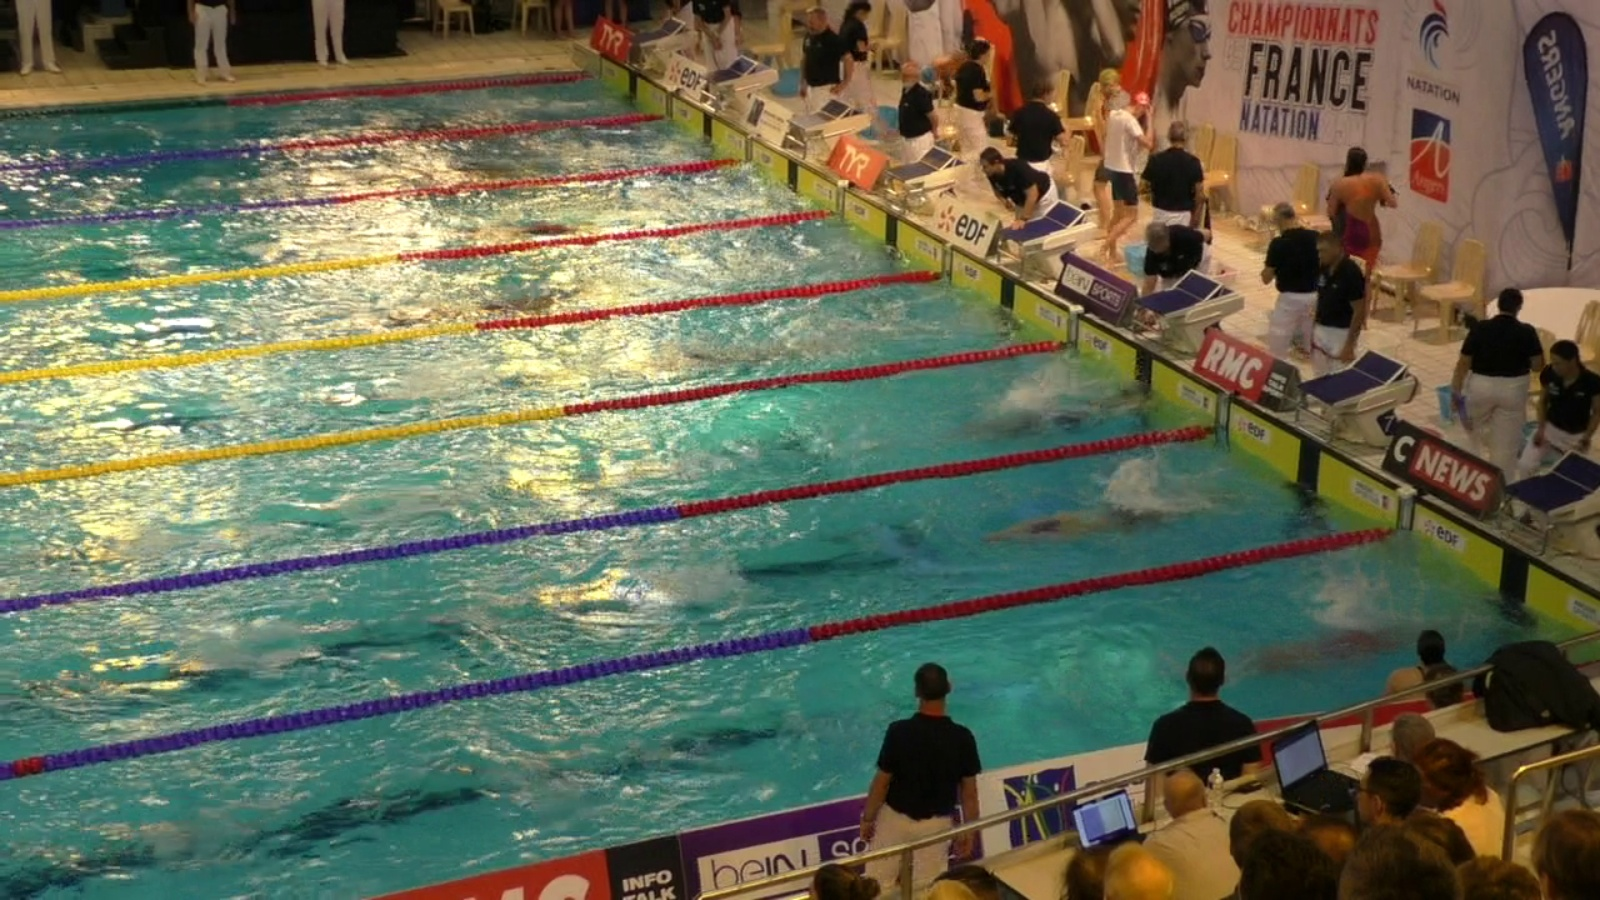swimmerwdd: (1235, 609, 1429, 680), (973, 384, 1175, 444), (991, 508, 1222, 553), (655, 333, 915, 362), (416, 284, 613, 316), (423, 155, 557, 192), (485, 216, 623, 248), (358, 103, 481, 137)
